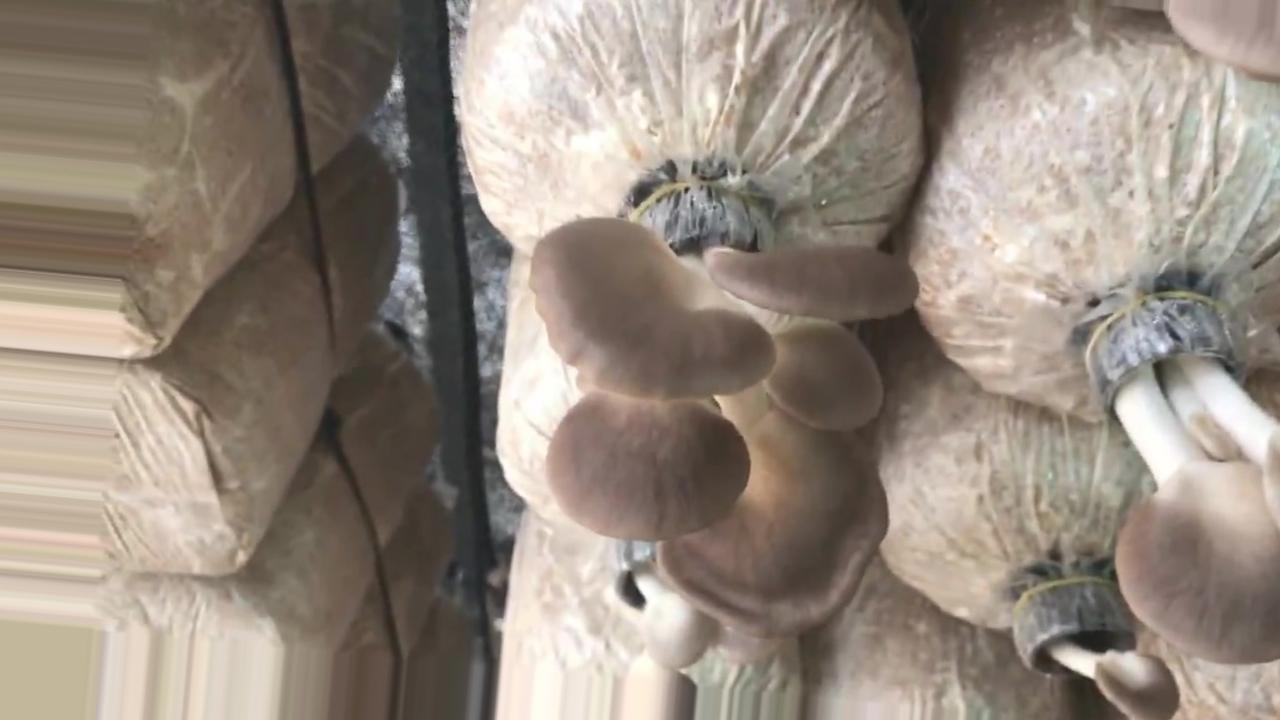nam: (531, 190, 918, 635), (1096, 301, 1280, 663), (1011, 575, 1177, 720), (606, 542, 779, 663), (1163, 2, 1280, 74)
